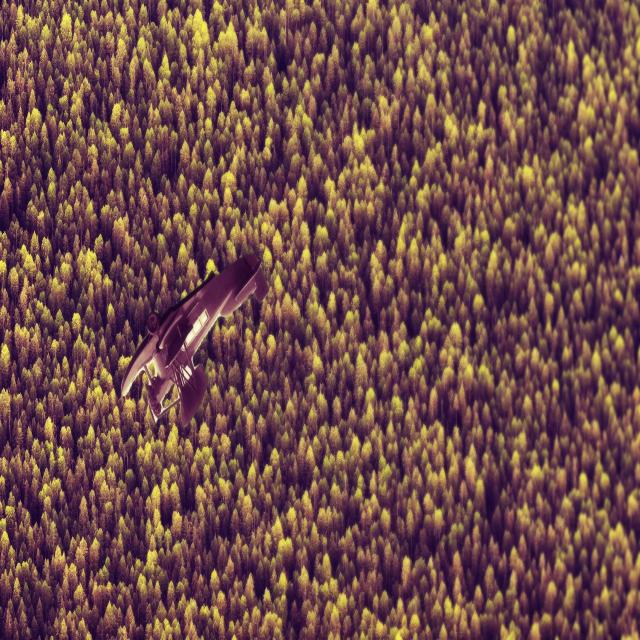airplane: (120, 252, 269, 428)
